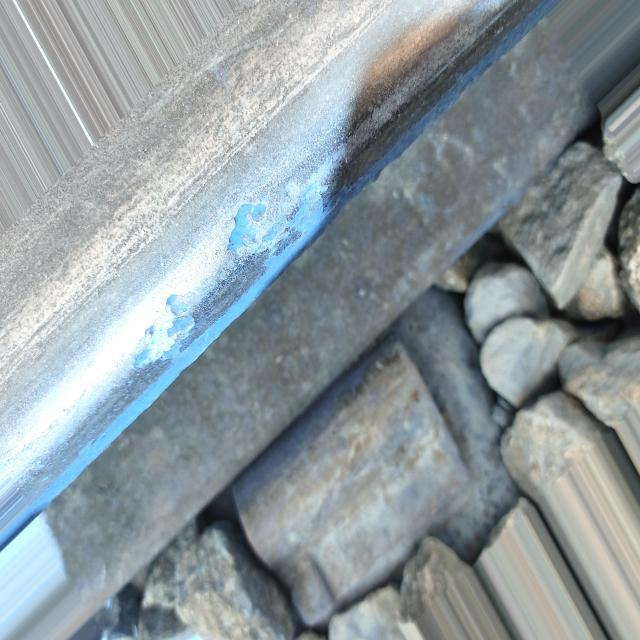Missing Fastener: (161, 222, 555, 634)
